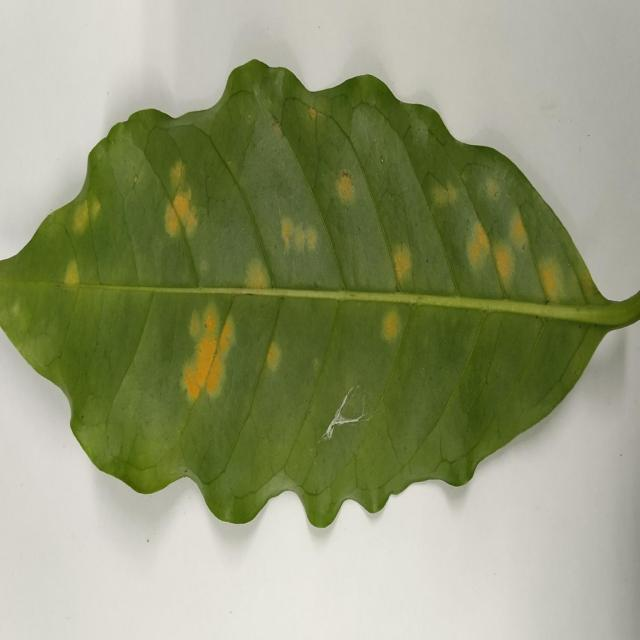rust: (182, 303, 234, 401), (164, 157, 198, 242), (281, 213, 322, 264), (538, 256, 579, 302), (388, 238, 417, 292), (467, 215, 490, 278), (242, 259, 278, 296), (495, 241, 516, 296), (62, 257, 89, 292), (381, 306, 407, 342), (335, 169, 355, 212), (509, 205, 528, 249), (263, 342, 282, 378)
